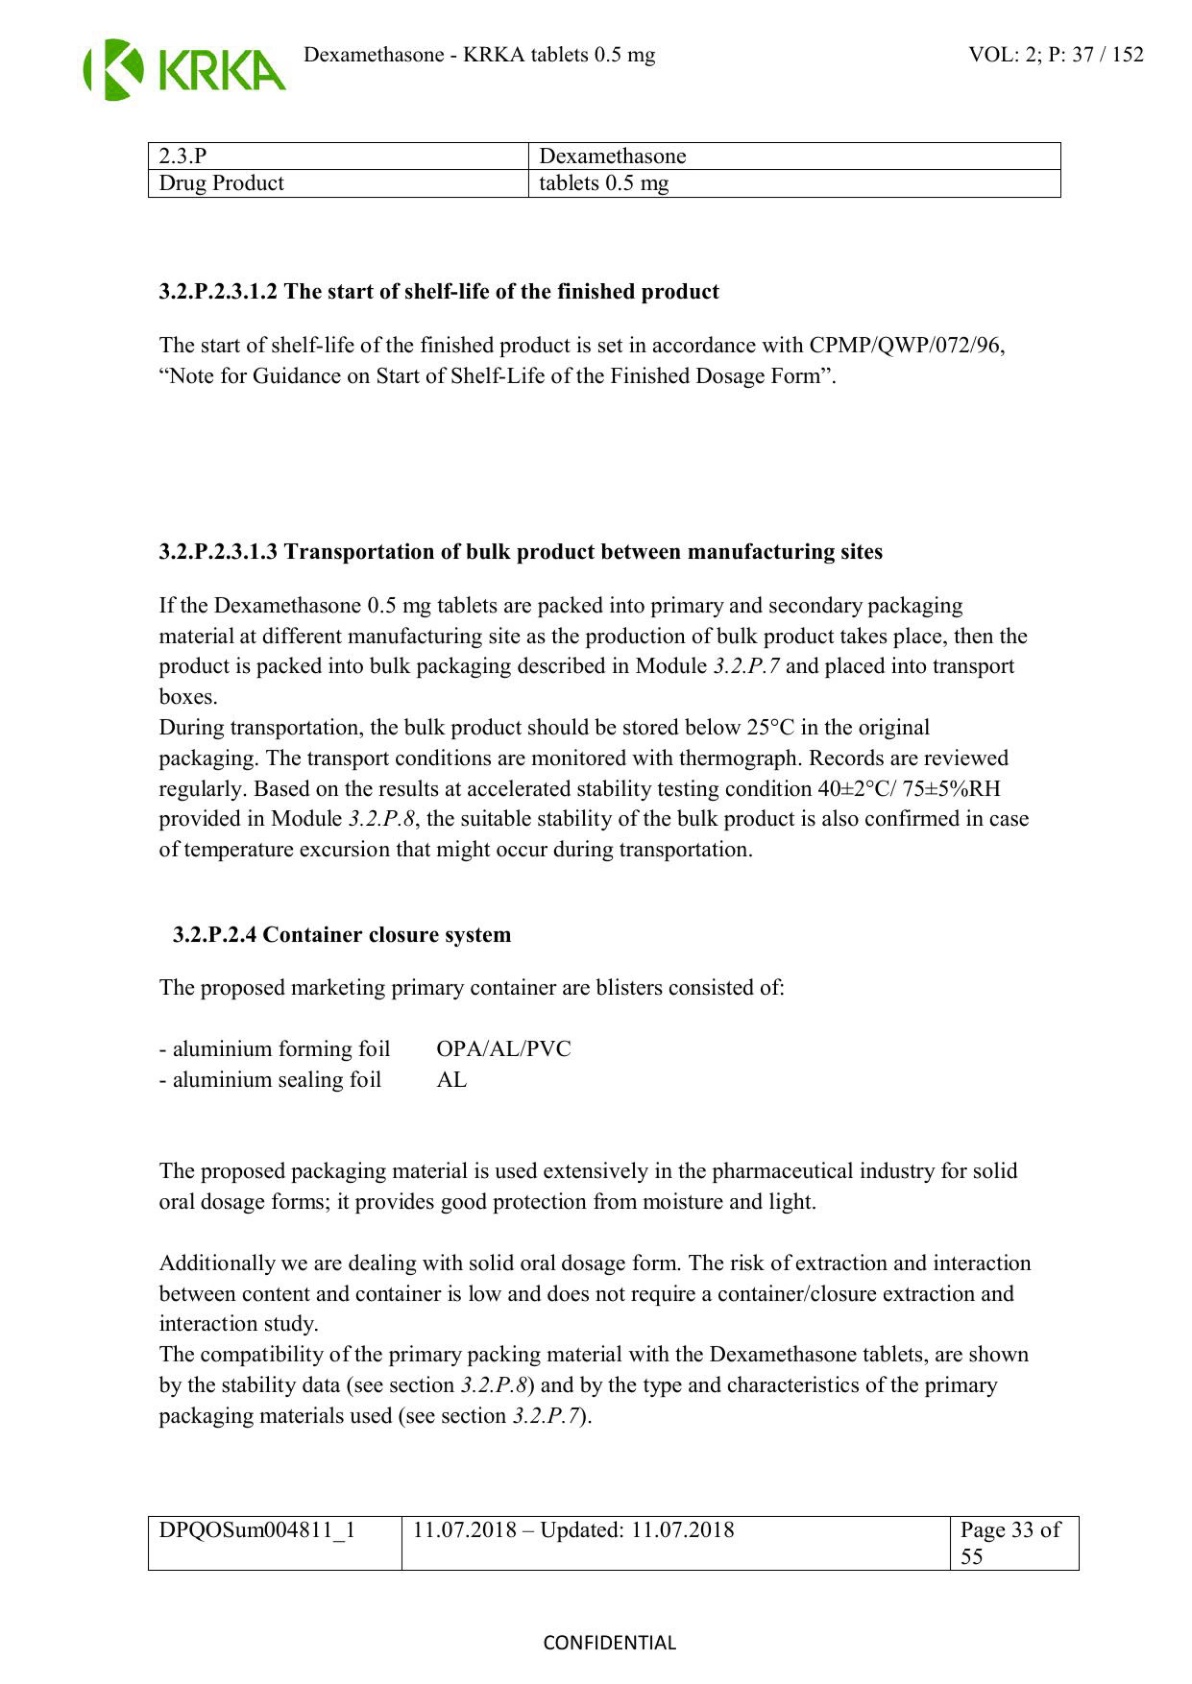full_lined: (146, 1514, 1080, 1572), (147, 142, 1062, 199)
